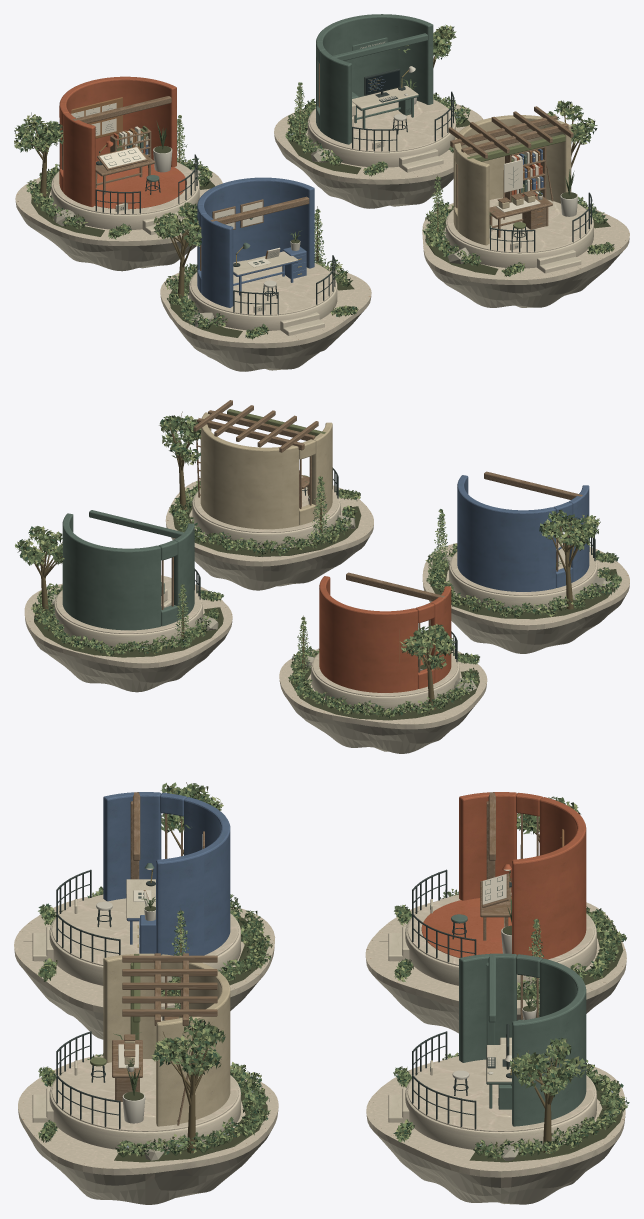
The model's file is archipelago-v6-low.glb.
3 views of the same model, one above another, from view 1: azimuth 30°, elevation 25°; view 2: azimuth 150°, elevation 25°; view 3: azimuth 270°, elevation 25° (orthographic). The views are drawn at different scales.
Visible parts, largest first — view 1: pavilion_evoluir, pavilion_gerar, pavilion_validar, pavilion_especificar, island_evoluir_foundation, island_validar_foundation, island_gerar_foundation, island_especificar_foundation, island_validar_groundcover, island_evoluir_groundcover, island_gerar_groundcover, island_especificar_groundcover (+7 smaller); view 2: pavilion_evoluir, pavilion_gerar, pavilion_especificar, pavilion_validar, island_gerar_foundation, island_especificar_foundation, island_evoluir_foundation, island_validar_foundation, island_especificar_groundcover, island_validar_groundcover, island_gerar_groundcover, island_evoluir_groundcover (+9 smaller); view 3: pavilion_evoluir, pavilion_gerar, pavilion_especificar, pavilion_validar, island_evoluir_foundation, island_gerar_foundation, island_especificar_foundation, island_validar_foundation, island_evoluir_groundcover, island_gerar_groundcover, island_validar_groundcover, island_especificar_groundcover (+5 smaller).
Part boxes in pixels (x1=…): pavilion_evoluir: x1=445, y1=106, x2=593, y2=273; pavilion_gerar: x1=307, y1=14, x2=455, y2=172; pavilion_validar: x1=189, y1=177, x2=337, y2=335; pavilion_especificar: x1=51, y1=76, x2=199, y2=234; island_evoluir_foundation: x1=422, y1=203, x2=629, y2=307; island_validar_foundation: x1=160, y1=266, x2=371, y2=371; island_gerar_foundation: x1=274, y1=101, x2=483, y2=208; island_especificar_foundation: x1=15, y1=161, x2=222, y2=271; island_validar_groundcover: x1=164, y1=257, x2=358, y2=339; island_evoluir_groundcover: x1=422, y1=197, x2=614, y2=276; island_gerar_groundcover: x1=285, y1=92, x2=470, y2=176; island_especificar_groundcover: x1=26, y1=158, x2=215, y2=239; pavilion_evoluir: x1=192, y1=400, x2=340, y2=548; pavilion_gerar: x1=54, y1=510, x2=202, y2=649; pavilion_especificar: x1=311, y1=572, x2=459, y2=711; pavilion_validar: x1=449, y1=471, x2=597, y2=610; island_gerar_foundation: x1=24, y1=583, x2=232, y2=692; island_especificar_foundation: x1=279, y1=649, x2=487, y2=753; island_evoluir_foundation: x1=165, y1=479, x2=373, y2=590; island_validar_foundation: x1=422, y1=543, x2=629, y2=653; island_especificar_groundcover: x1=288, y1=646, x2=479, y2=720; island_validar_groundcover: x1=425, y1=543, x2=621, y2=619; island_gerar_groundcover: x1=31, y1=583, x2=223, y2=657; island_evoluir_groundcover: x1=169, y1=481, x2=361, y2=556; pavilion_evoluir: x1=32, y1=953, x2=240, y2=1150; pavilion_gerar: x1=388, y1=953, x2=596, y2=1151; pavilion_especificar: x1=388, y1=792, x2=596, y2=988; pavilion_validar: x1=32, y1=792, x2=240, y2=985; island_evoluir_foundation: x1=18, y1=1054, x2=278, y2=1204; island_gerar_foundation: x1=366, y1=1060, x2=625, y2=1204; island_especificar_foundation: x1=365, y1=901, x2=626, y2=1033; island_validar_foundation: x1=14, y1=896, x2=275, y2=1039; island_evoluir_groundcover: x1=38, y1=1053, x2=270, y2=1162; island_gerar_groundcover: x1=393, y1=1052, x2=629, y2=1162; island_validar_groundcover: x1=38, y1=886, x2=272, y2=996; island_especificar_groundcover: x1=394, y1=889, x2=626, y2=999.
Size of the model in its own units: 17.38 by 5.92 by 16.28.
27 materials, 8 textured.
